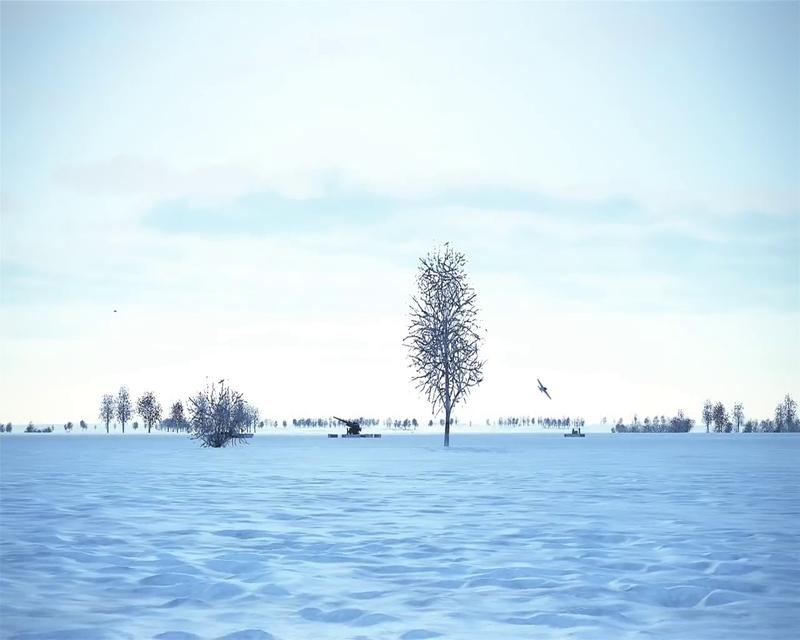UAV: (535, 377, 551, 398)
